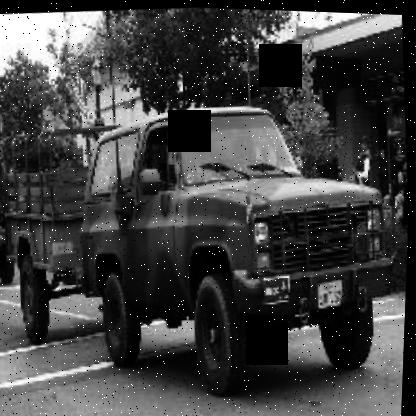not_emergency: (2, 86, 403, 396)
